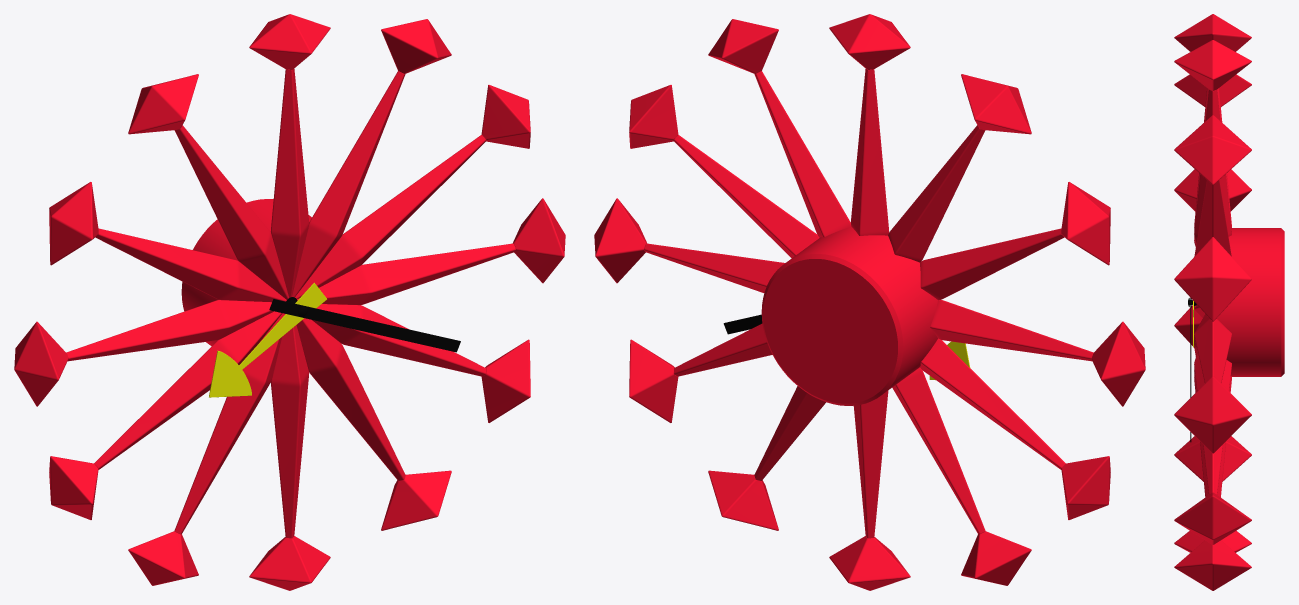
Rendered from saat004 (1).fbx.
3 views of the same model, side by side, from view 1: azimuth 30°, elevation 25°; view 2: azimuth 150°, elevation 25°; view 3: azimuth 270°, elevation 25° (orthographic). The views are drawn at different scales.
Visible parts, largest first — view 1: saat4; view 2: saat4; view 3: saat4.
Part boxes in pixels (bbox=[...]): saat4: bbox=[14, 14, 565, 590]; saat4: bbox=[594, 14, 1145, 590]; saat4: bbox=[1174, 14, 1284, 590].
Bounding box in the file's own units: 61.17 × 61.17 × 11.67.
